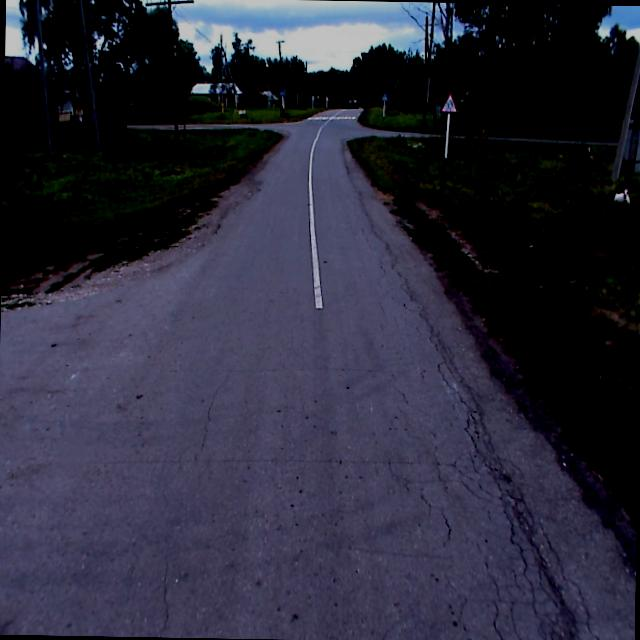road: (0, 107, 635, 640)
